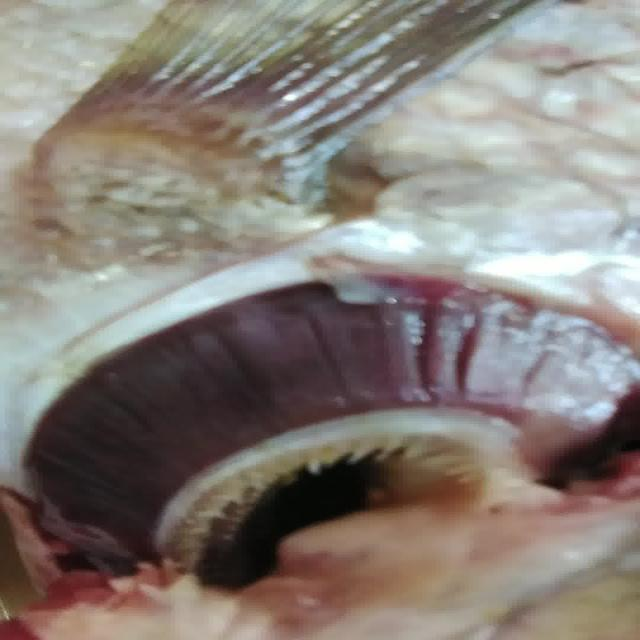Non-Fresh: (28, 250, 618, 584)
